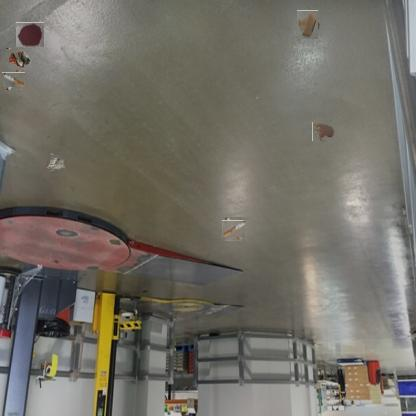dirty: (295, 12, 320, 38), (6, 48, 32, 70), (223, 219, 244, 239), (4, 70, 23, 89), (47, 153, 65, 171)
liquid: (16, 22, 44, 47), (313, 121, 334, 142)
